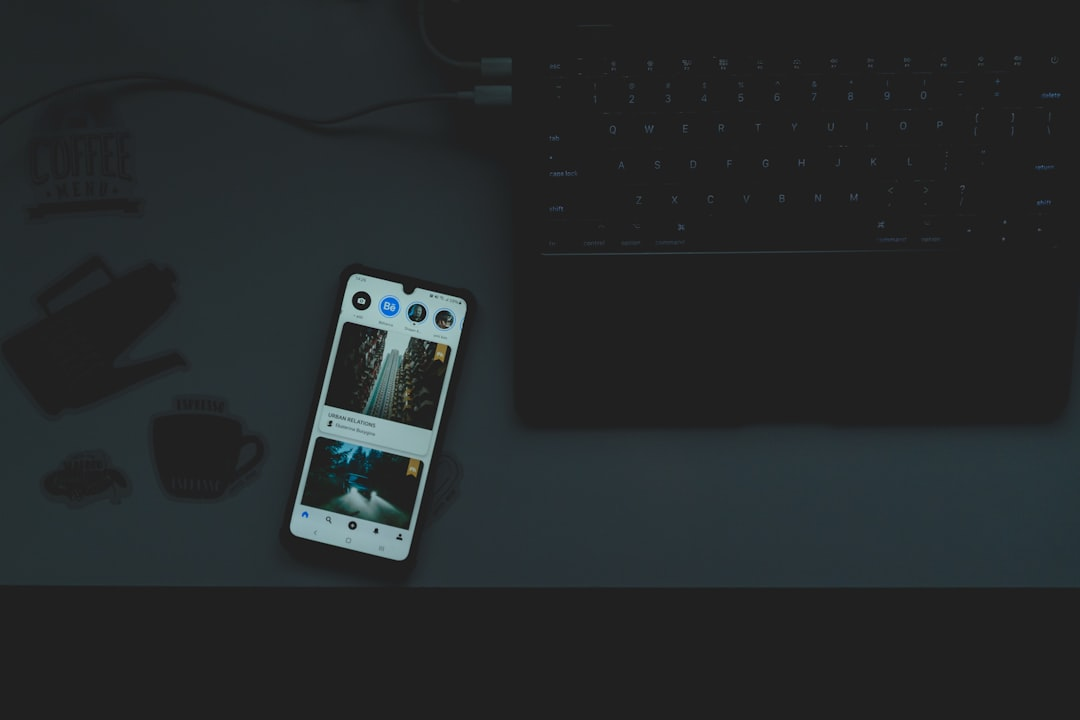phone: (277, 269, 475, 583)
